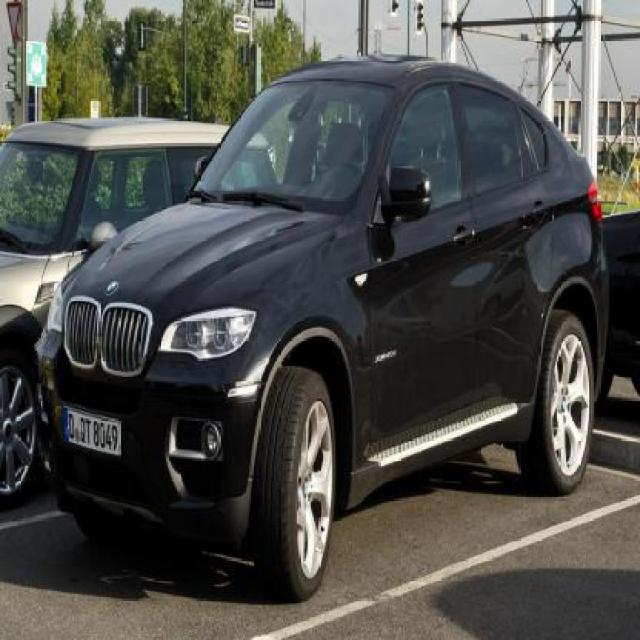License-Plates: (62, 405, 122, 456)
